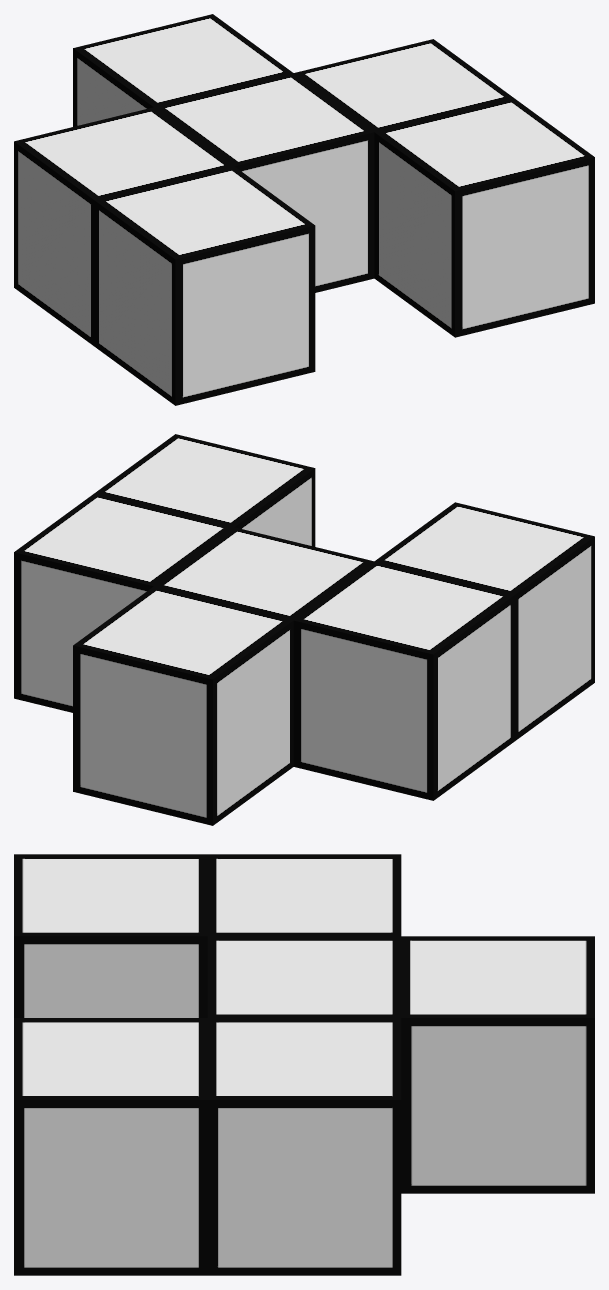
Rendered from Fighter.FBX.
The picture shows the model from 3 angles, top to bottom: view 1: azimuth 30°, elevation 25°; view 2: azimuth 150°, elevation 25°; view 3: azimuth 270°, elevation 25°; orthographic projection. The views are drawn at different scales.
Parts seen in each view (by area): view 1: Fighter; view 2: Fighter; view 3: Fighter.
Boxes of the visible parts, x1=… form: Fighter: x1=14, y1=14, x2=594, y2=405; Fighter: x1=14, y1=434, x2=594, y2=825; Fighter: x1=14, y1=854, x2=594, y2=1275.
Bounding box in the file's own units: 300 × 100 × 300.
1 material, 1 textured.
